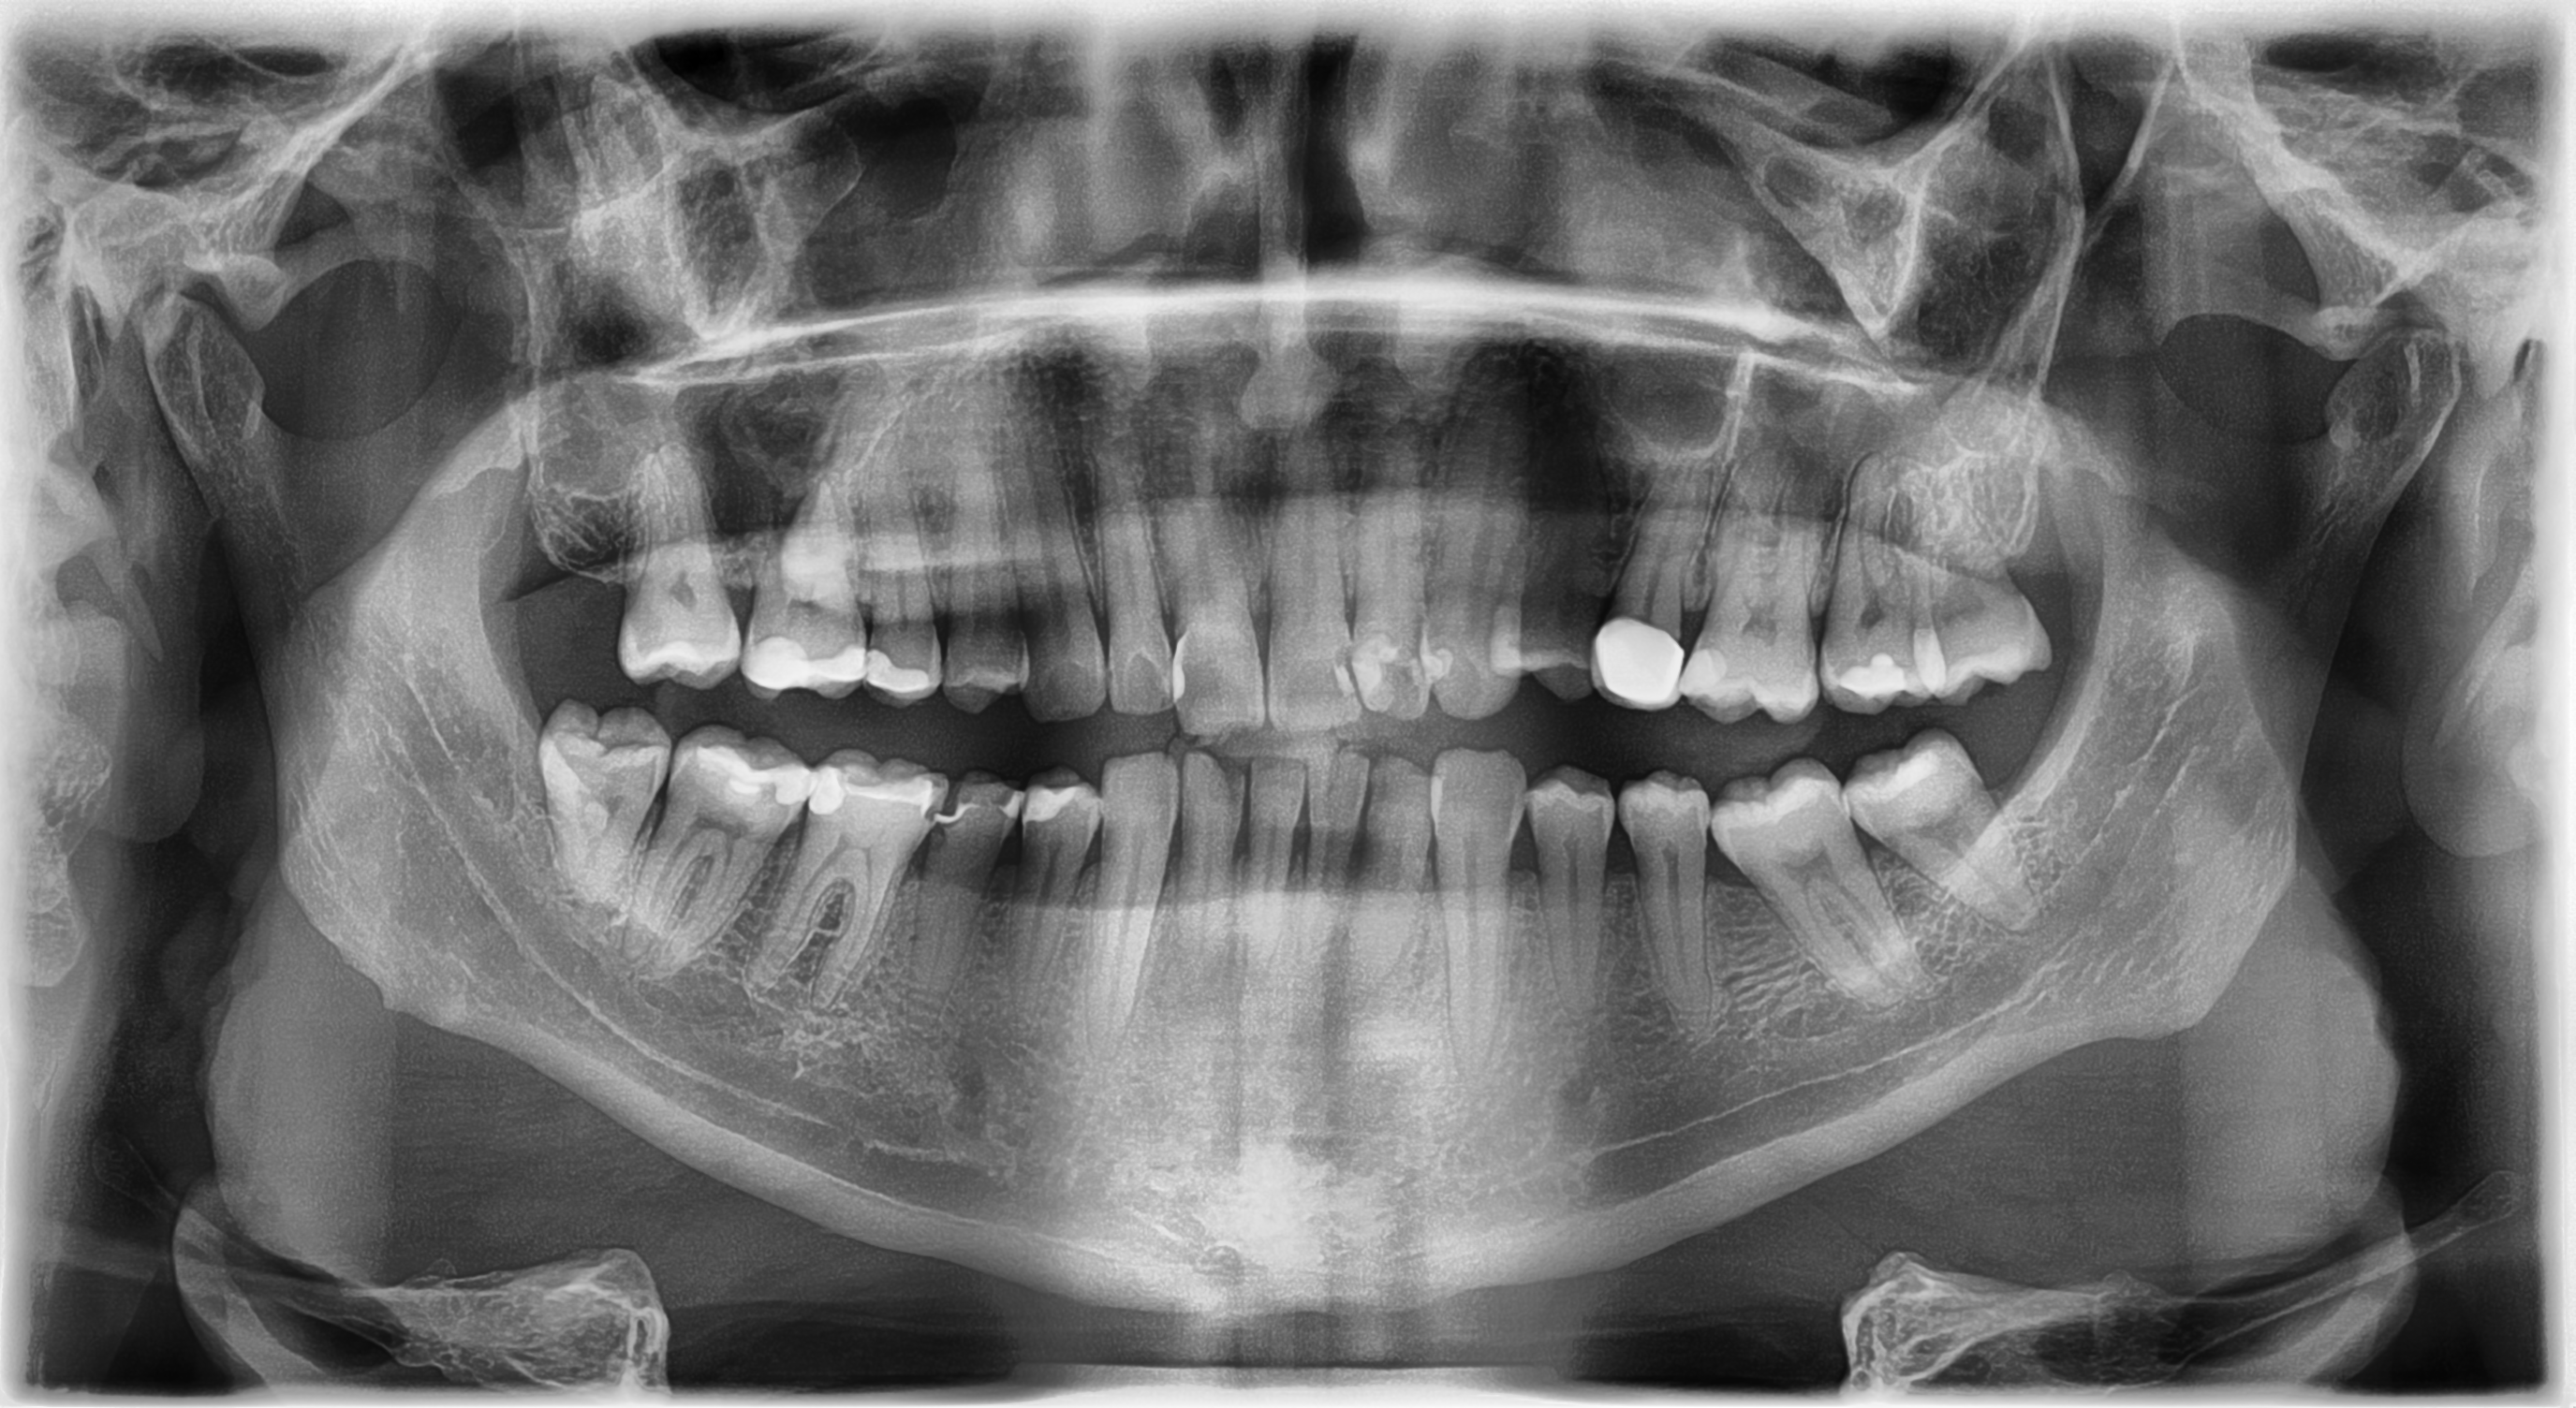cordal: (1891, 451, 2099, 730), (520, 671, 690, 914)
